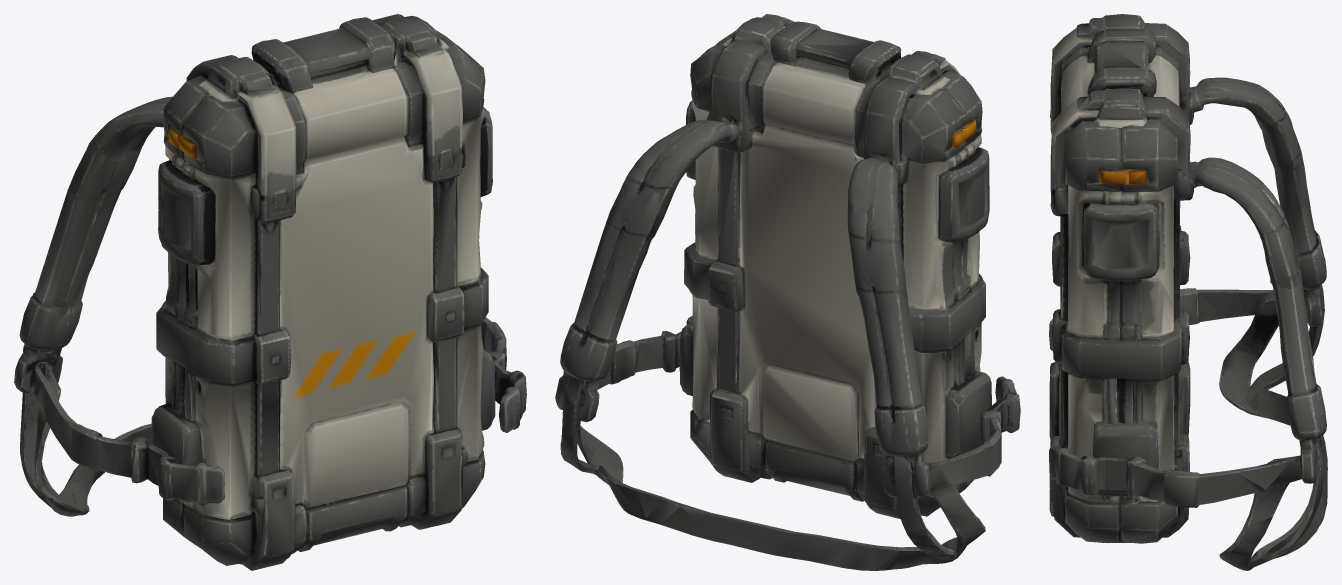
Rendered from 06_deployable_shield_folded.fbx.
The picture shows the model from 3 angles, left to right: view 1: azimuth 30°, elevation 25°; view 2: azimuth 150°, elevation 25°; view 3: azimuth 270°, elevation 25°; orthographic projection. The views are drawn at different scales.
Visible parts, largest first — view 1: 06_deployable_shield_folded; view 2: 06_deployable_shield_folded; view 3: 06_deployable_shield_folded.
Part boxes in pixels (left/top/right/bottom): 06_deployable_shield_folded: left=14, top=14, right=526, bottom=570; 06_deployable_shield_folded: left=555, top=14, right=1020, bottom=570; 06_deployable_shield_folded: left=1049, top=14, right=1327, bottom=570.
Bounding box in the file's own units: 0.5745 × 0.6 × 0.3418.
1 material, 1 textured.
